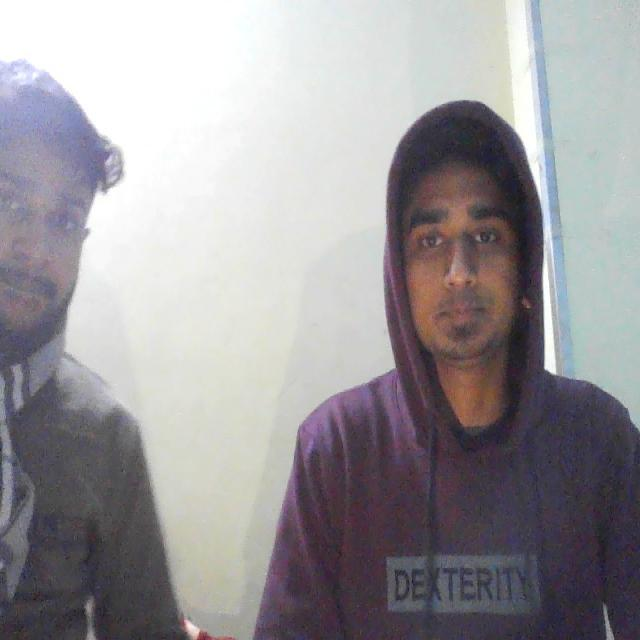real: (387, 92, 544, 388)
